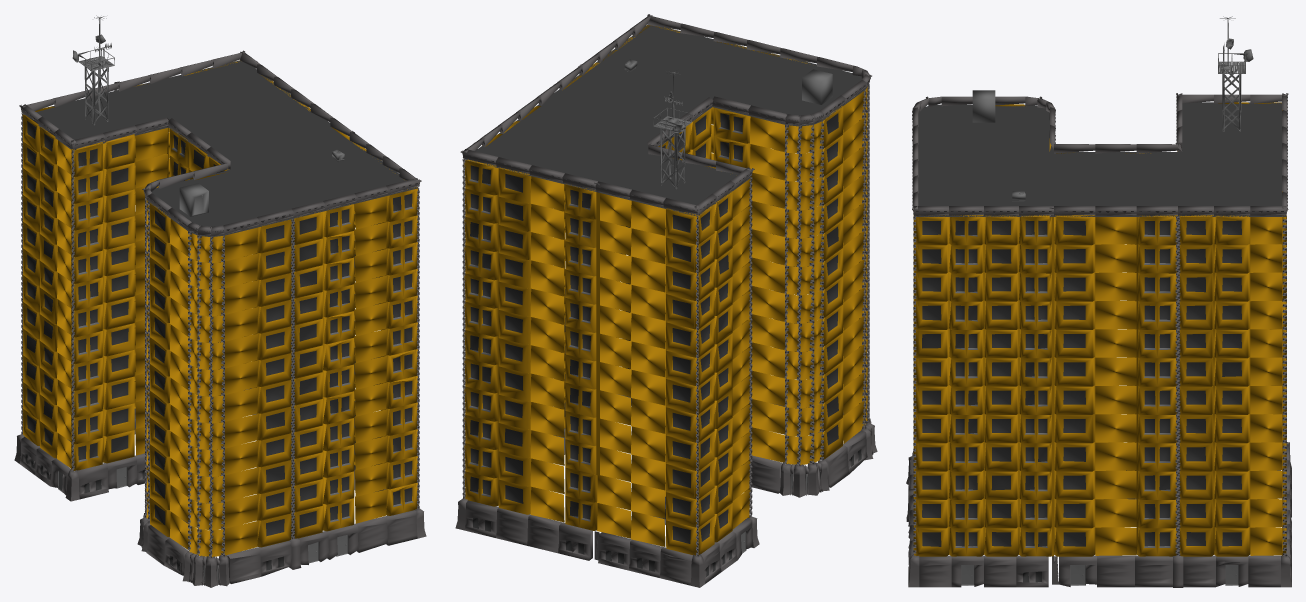
The model's file is Building3_low.fbx.
3 views of the same model, side by side, from view 1: azimuth 30°, elevation 25°; view 2: azimuth 150°, elevation 25°; view 3: azimuth 270°, elevation 25° (orthographic). The views are drawn at different scales.
Parts seen in each view (by area): view 1: ground_floor_wall_01.007; view 2: ground_floor_wall_01.007; view 3: ground_floor_wall_01.007.
Part boxes in pixels (x1,y1,x2,y2): ground_floor_wall_01.007: (14, 15, 426, 587); ground_floor_wall_01.007: (455, 14, 877, 587); ground_floor_wall_01.007: (906, 16, 1291, 587).
Bounding box in the file's own units: 27.31 × 50.67 × 37.08.
